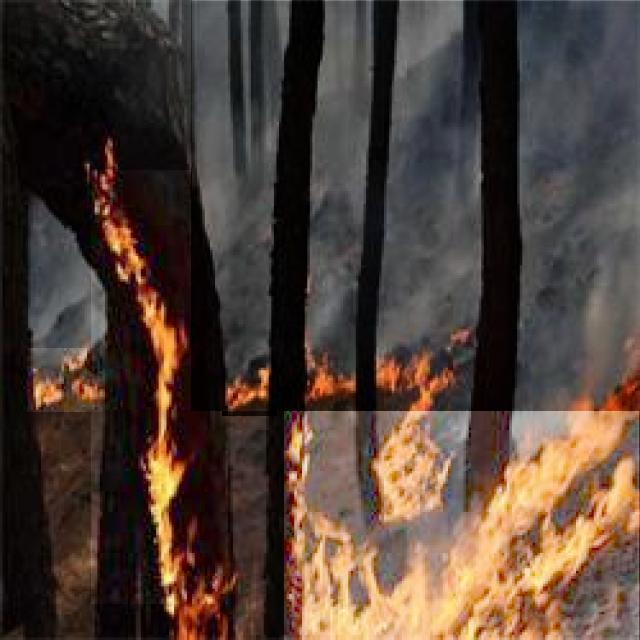Fire: (284, 380, 639, 640), (91, 170, 228, 604), (360, 402, 455, 513), (27, 348, 119, 412), (373, 345, 447, 400), (222, 348, 277, 416), (308, 338, 351, 404)
Smoke: (191, 1, 640, 412)
